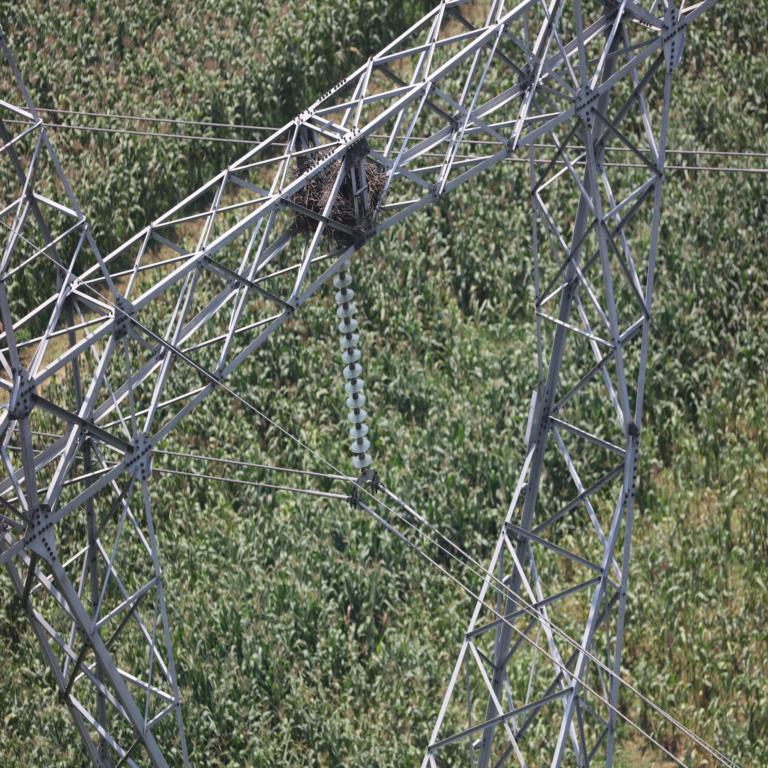nest: (294, 158, 382, 245)
